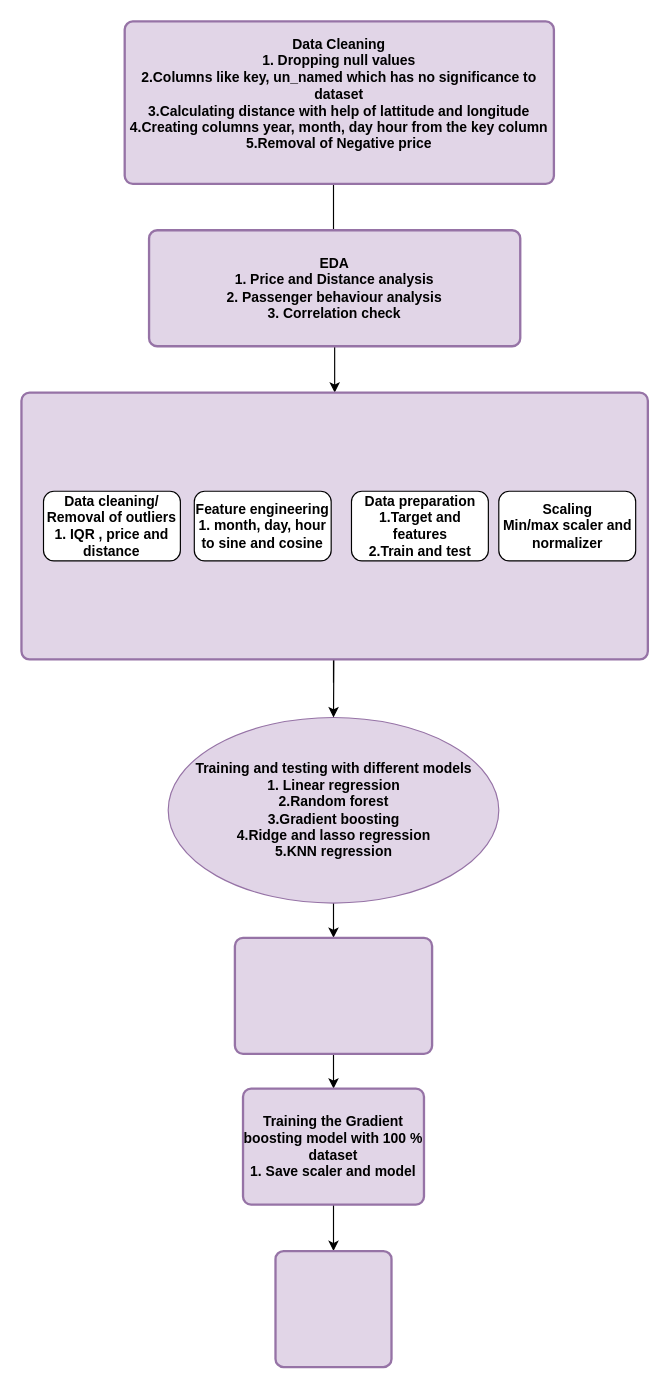
Image size: 668x1387. Some labels were removed from this diagram. Here are the shapes that lost their labels. From the top down, the centre of each, then its label:
At (x=333, y=995): "Cross validation".
At (x=333, y=1308): "Visualize with streamlit".
